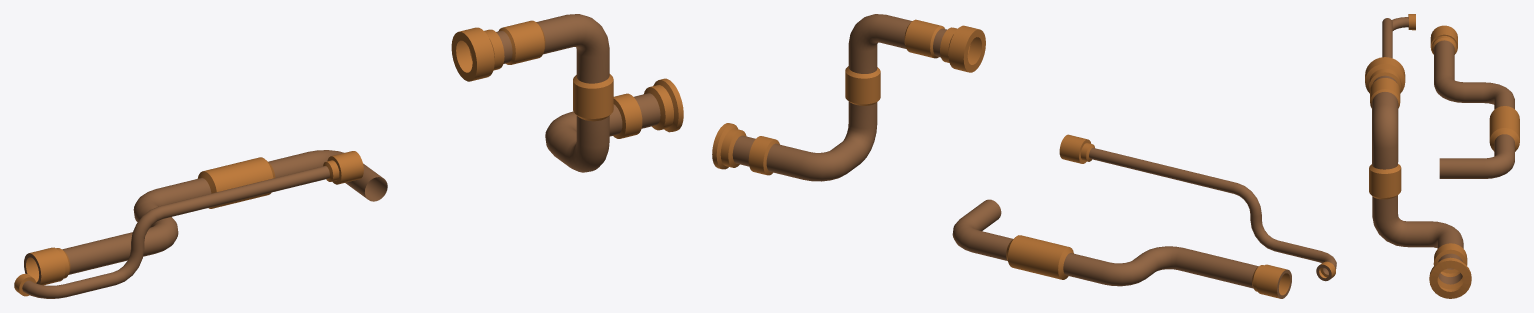
The model's file is Pipes.fbx.
3 renders of one model, left to right at view 1: azimuth 30°, elevation 25°; view 2: azimuth 150°, elevation 25°; view 3: azimuth 270°, elevation 25°, orthographic. The views are drawn at different scales.
Parts seen in each view (by area): view 1: Plane, Plane.001, Plane.002; view 2: Plane, Plane.001, Plane.002; view 3: Plane, Plane.001, Plane.002.
Boxes of the visible parts, box(x1,y1,x2,y2) form: Plane: box(451, 14, 683, 172); Plane.001: box(24, 150, 387, 285); Plane.002: box(14, 151, 363, 298); Plane: box(712, 14, 985, 181); Plane.001: box(952, 199, 1291, 298); Plane.002: box(1059, 134, 1336, 281); Plane: box(1365, 57, 1471, 298); Plane.001: box(1430, 25, 1519, 178); Plane.002: box(1382, 14, 1415, 58).
Bounding box in the file's own units: 261 × 68.48 × 65.5.
